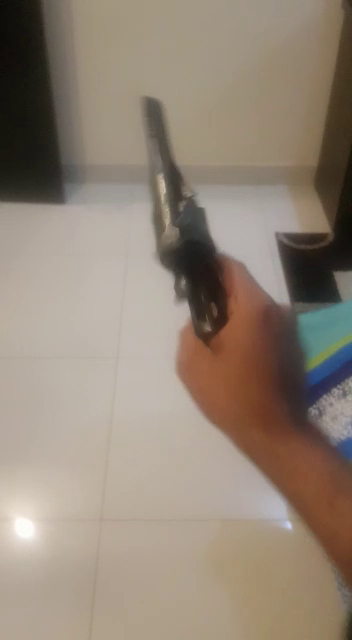handgun: (117, 84, 289, 401)
